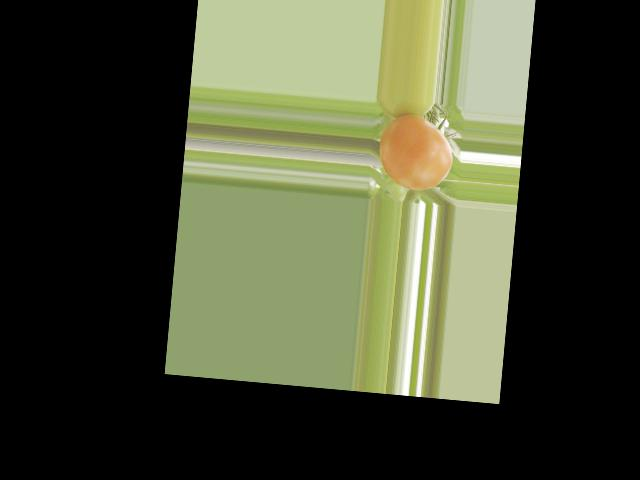tomato: (375, 112, 456, 192)
